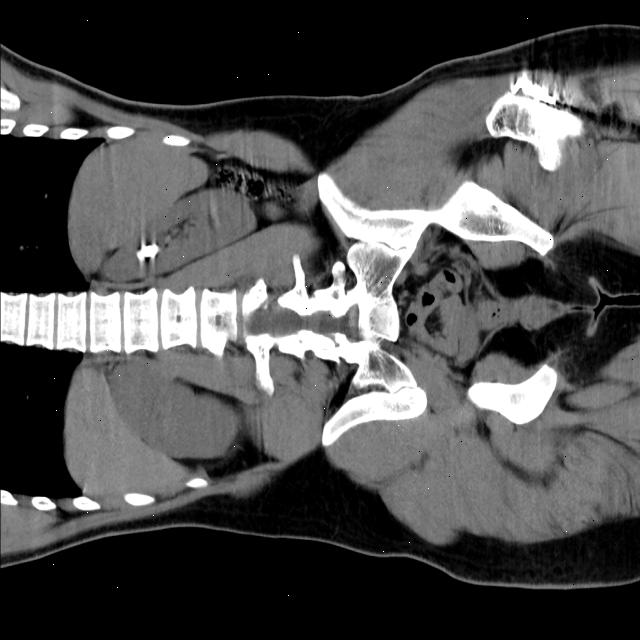kidneystone: (136, 238, 159, 261)
